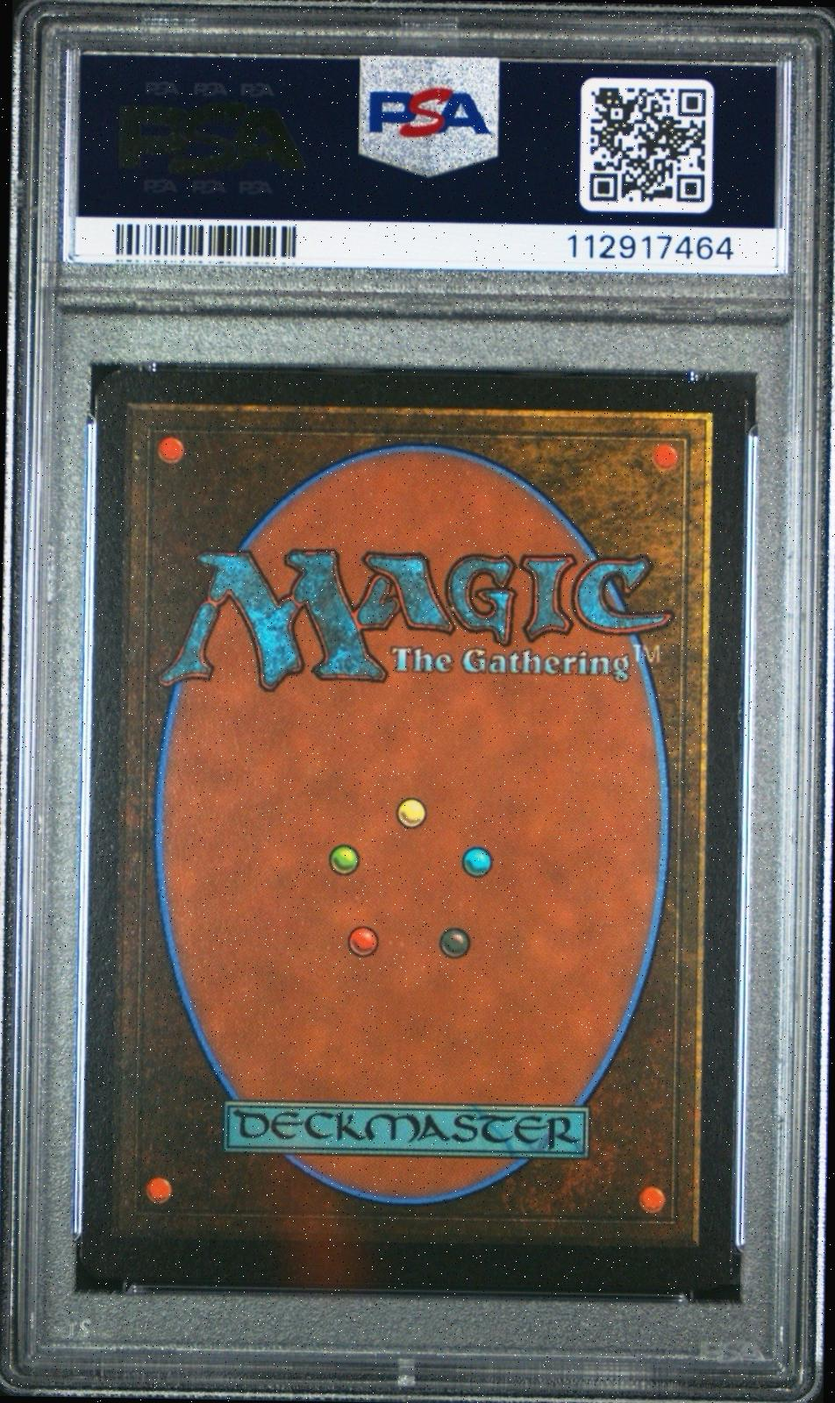card-2UtV: (79, 370, 748, 1290)
